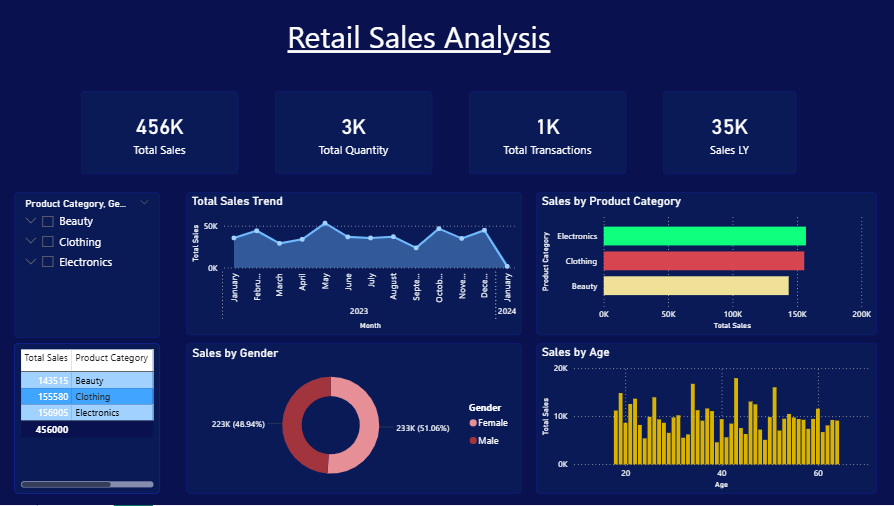

Layout of this report page (visuals, bound fields, positions):
{"tool":"powerbi","page":{"name":"Page 1","canvas":[1280,720],"ordinal":0},"visuals":[{"type":"card","fields":{"Values":["retail_sales_dataset.Total Sales"]},"box":[120.5,133.2,222.5,117.6],"z":0},{"type":"card","fields":{"Values":["retail_sales_dataset.Total Transactions"]},"box":[670.4,133.2,222.5,117.6],"z":1000},{"type":"card","fields":{"Values":["retail_sales_dataset.Total Quantity"]},"box":[395.4,133.2,222.5,117.6],"z":2000},{"type":"lineChart","title":"Total Sales Trend","fields":{"Y":["retail_sales_dataset.Total Sales"],"Category":["Date Table.Date.Variation.Date Hierarchy.Year","Date Table.Date.Variation.Date Hierarchy.Month"]},"box":[269.3,276.4,476.2,202.7],"z":3000},{"type":"barChart","title":" Sales by Product Category","fields":{"Y":["retail_sales_dataset.Total Sales"],"Category":["retail_sales_dataset.Product Category"]},"box":[765.4,276.4,483.3,202.7],"z":4000},{"type":"donutChart","title":" Sales by Gender","fields":{"Category":["retail_sales_dataset.Gender"],"Y":["retail_sales_dataset.Total Sales"]},"box":[269.3,490.4,476.2,214],"z":5000},{"type":"slicer","fields":{"Values":["retail_sales_dataset.Product Category","retail_sales_dataset.Gender","retail_sales_dataset.Year"]},"box":[25.5,276.4,206.9,206.9],"z":6000},{"type":"columnChart","title":"Sales by Age","fields":{"Y":["retail_sales_dataset.Total Sales"],"Category":["retail_sales_dataset.Age"]},"box":[765.4,490.4,483.3,214],"z":7000},{"type":"tableEx","fields":{"Values":["retail_sales_dataset.Total Sales","retail_sales_dataset.Product Category","retail_sales_dataset.Product Rank"]},"box":[25.5,490.4,206.9,214],"z":8000},{"type":"card","fields":{"Values":["retail_sales_dataset.Sales LY"]},"box":[945.4,133.2,188.5,117.6],"z":9000},{"type":"textbox","box":[372.8,21.3,453.5,76.5],"z":10000}]}

Visuals, with their boxes in screenshot pixels (x1, y1, x2, y2), scaled from the page's 1280x720 canvas onto the 894x506 screenshot:
card - retail_sales_dataset.Total Sales: bbox=(84, 94, 240, 176)
card - retail_sales_dataset.Total Transactions: bbox=(468, 94, 624, 176)
card - retail_sales_dataset.Total Quantity: bbox=(276, 94, 432, 176)
"Total Sales Trend" lineChart: bbox=(188, 194, 521, 337)
" Sales by Product Category" barChart: bbox=(535, 194, 872, 337)
" Sales by Gender" donutChart: bbox=(188, 345, 521, 495)
slicer - retail_sales_dataset.Product Category x retail_sales_dataset.Gender: bbox=(18, 194, 162, 340)
"Sales by Age" columnChart: bbox=(535, 345, 872, 495)
tableEx - retail_sales_dataset.Total Sales x retail_sales_dataset.Product Category: bbox=(18, 345, 162, 495)
card - retail_sales_dataset.Sales LY: bbox=(660, 94, 792, 176)
textbox: bbox=(260, 15, 577, 69)
